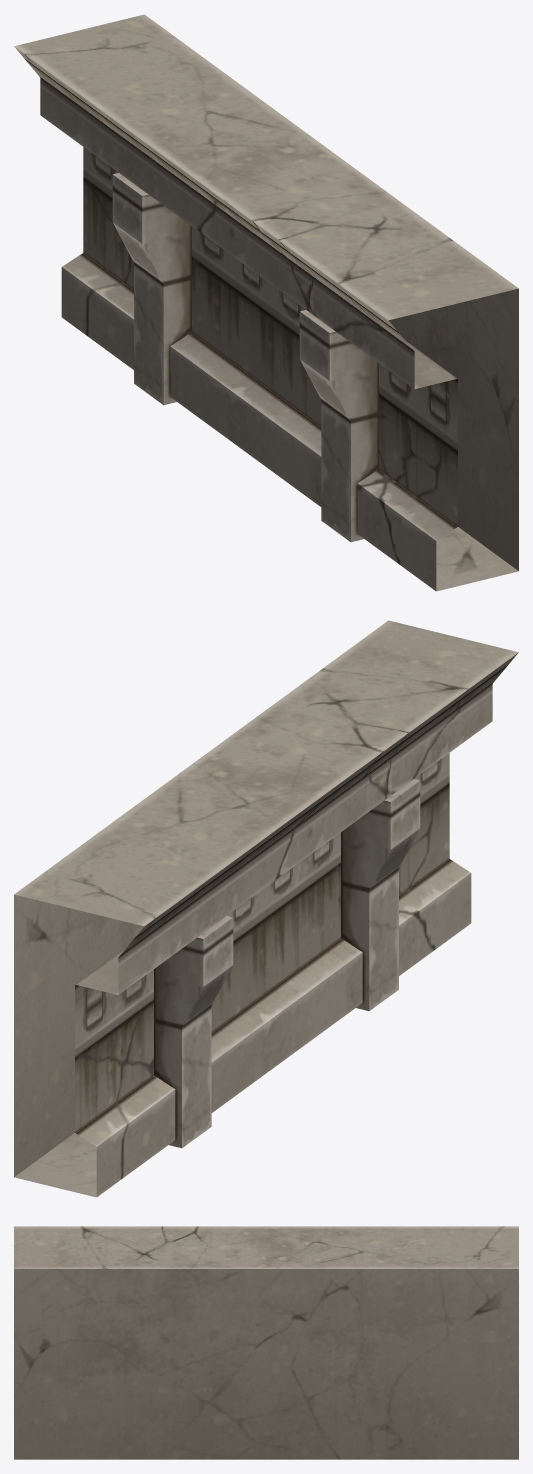
The model's file is cornice01_mid.fbx.
The picture shows the model from 3 angles, top to bottom: view 1: azimuth 30°, elevation 25°; view 2: azimuth 150°, elevation 25°; view 3: azimuth 270°, elevation 25°; orthographic projection. The views are drawn at different scales.
Parts seen in each view (by area): view 1: cornice01_mid; view 2: cornice01_mid; view 3: cornice01_mid.
Part boxes in pixels (box(x1,y1,x2,y2)): cornice01_mid: box(14, 14, 518, 591); cornice01_mid: box(14, 620, 518, 1197); cornice01_mid: box(14, 1226, 518, 1459).
Size of the model in its own units: 60.38 by 128 by 300.
